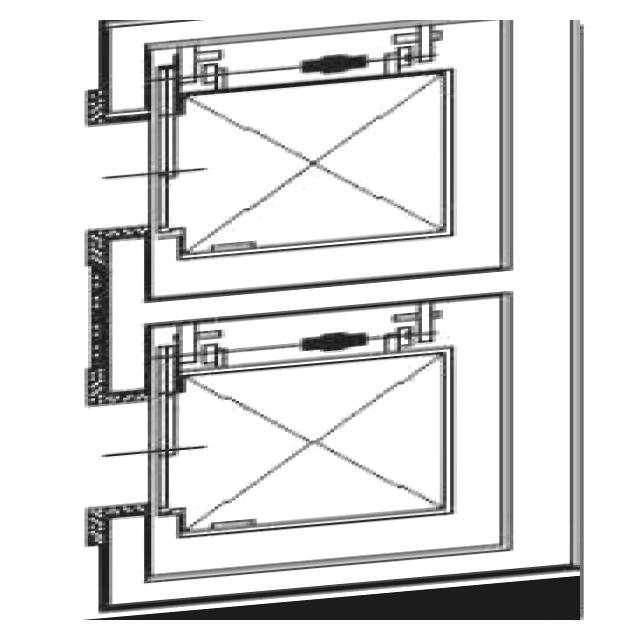lift: (81, 20, 580, 620)
